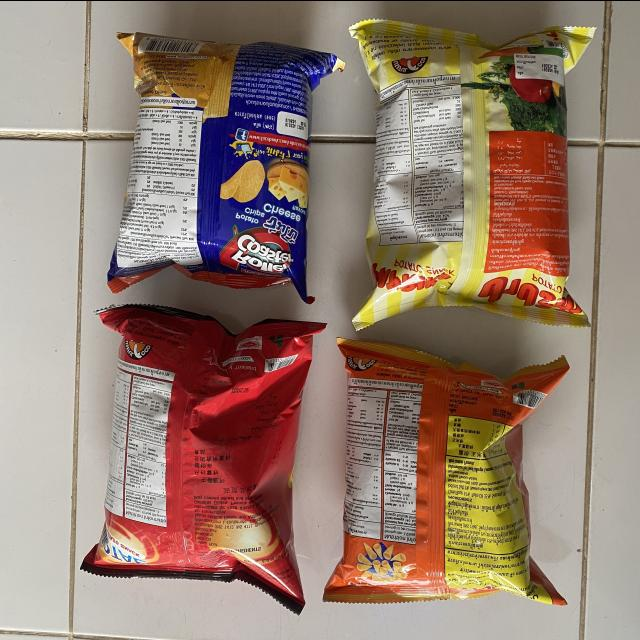plastik: (350, 18, 595, 329), (82, 303, 326, 613), (323, 337, 568, 604), (108, 32, 345, 302)
